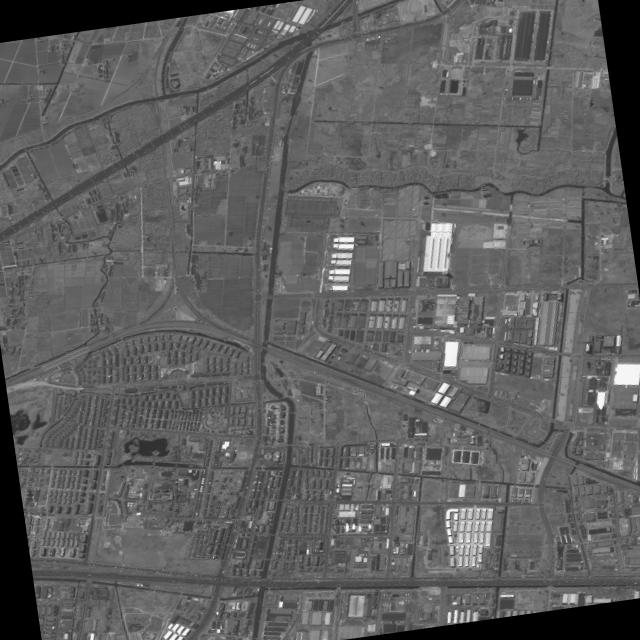storage-tank: (225, 451, 231, 456), (451, 594, 456, 598)
